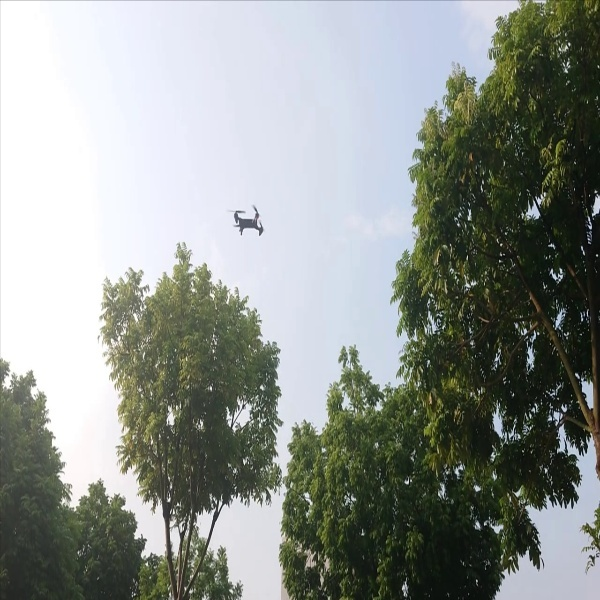drone: (227, 204, 274, 239)
